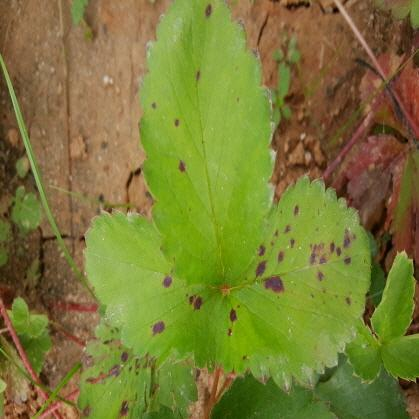Leaf Spot: (136, 0, 276, 288), (213, 173, 372, 393), (82, 207, 226, 374), (76, 306, 199, 418)
